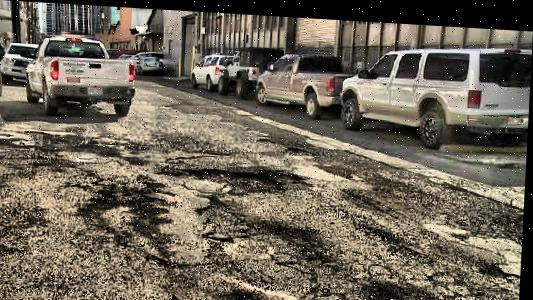pothole: (185, 161, 284, 188), (279, 166, 308, 183), (20, 127, 55, 139), (284, 143, 315, 153), (256, 132, 277, 143)
